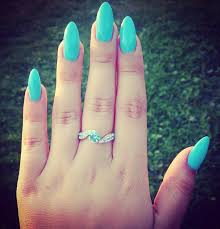hand: (7, 8, 209, 224)
